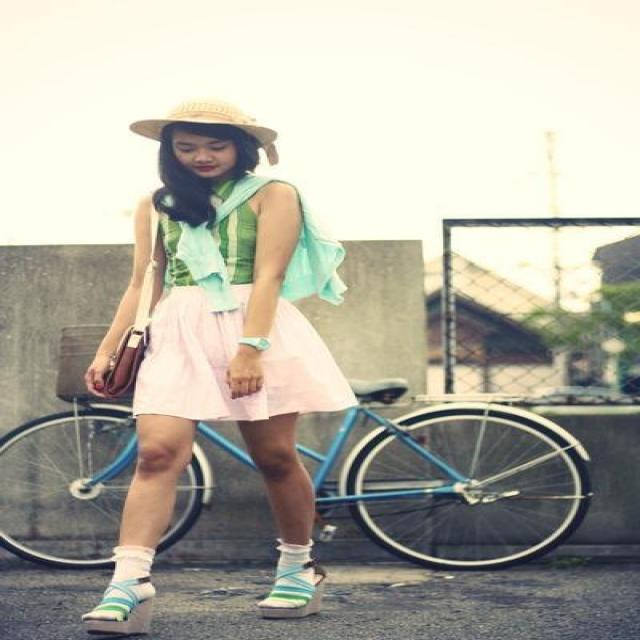bag: (91, 326, 152, 406)
hat: (134, 100, 277, 164)
jacket: (172, 174, 346, 313)
shirt: (154, 198, 259, 294)
shoe: (82, 566, 318, 619)
skirt: (134, 285, 357, 420)
